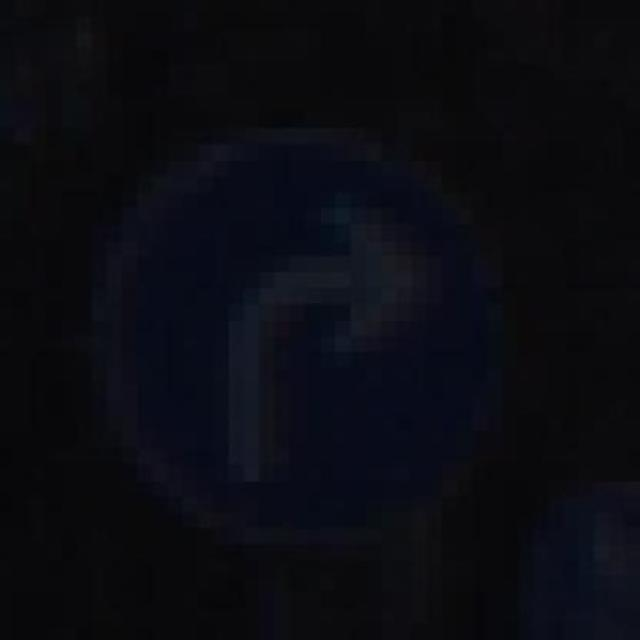Turn right ahead: (92, 111, 533, 544)
